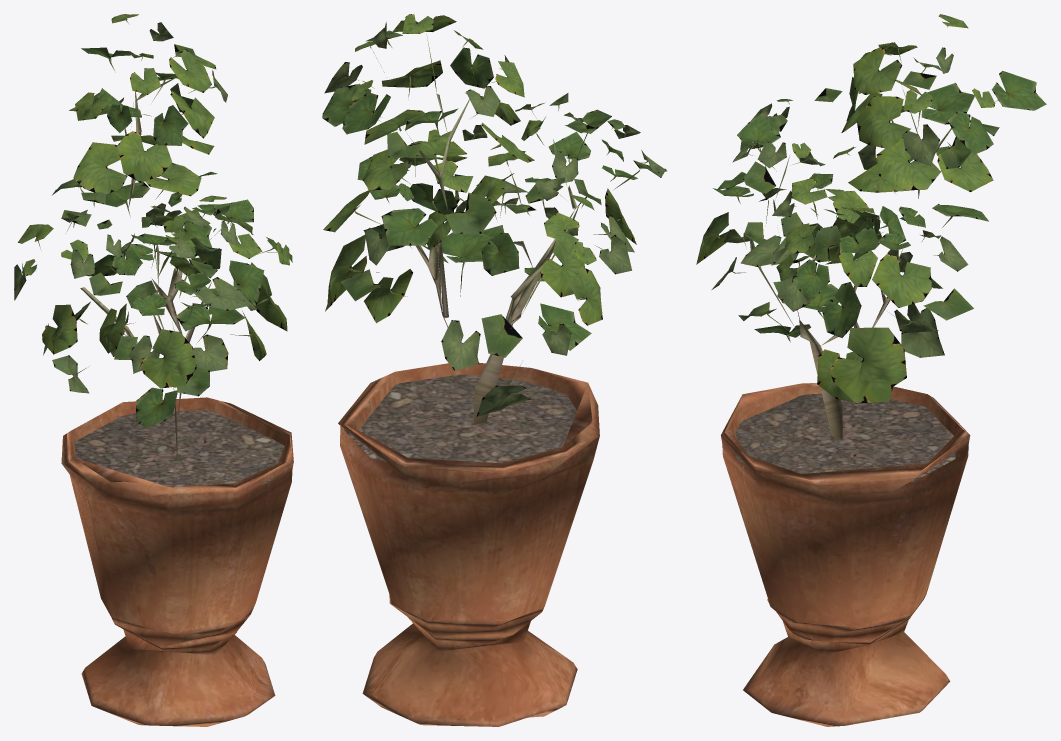
Rendered from potted-plant.glb.
The picture shows the model from 3 angles, left to right: view 1: azimuth 30°, elevation 25°; view 2: azimuth 150°, elevation 25°; view 3: azimuth 270°, elevation 25°; orthographic projection. The views are drawn at different scales.
Visible parts, largest first — view 1: potted_plant_01_stem, potted_plant_01_leaves; view 2: potted_plant_01_stem, potted_plant_01_leaves; view 3: potted_plant_01_stem, potted_plant_01_leaves.
Part boxes in pixels (x1=…): potted_plant_01_stem: x1=61, y1=91, x2=293, y2=726; potted_plant_01_leaves: x1=14, y1=14, x2=292, y2=427; potted_plant_01_stem: x1=338, y1=89, x2=599, y2=726; potted_plant_01_leaves: x1=322, y1=14, x2=666, y2=416; potted_plant_01_stem: x1=721, y1=90, x2=970, y2=726; potted_plant_01_leaves: x1=696, y1=14, x2=1046, y2=403.
Bounding box in the file's own units: 0.5866 × 1.33 × 0.6336.
2 materials, 2 textured.
